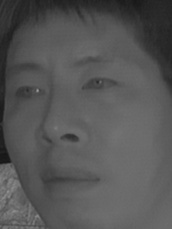eye: (77, 75, 120, 97), (12, 82, 47, 103)
mouth: (37, 163, 100, 201)
